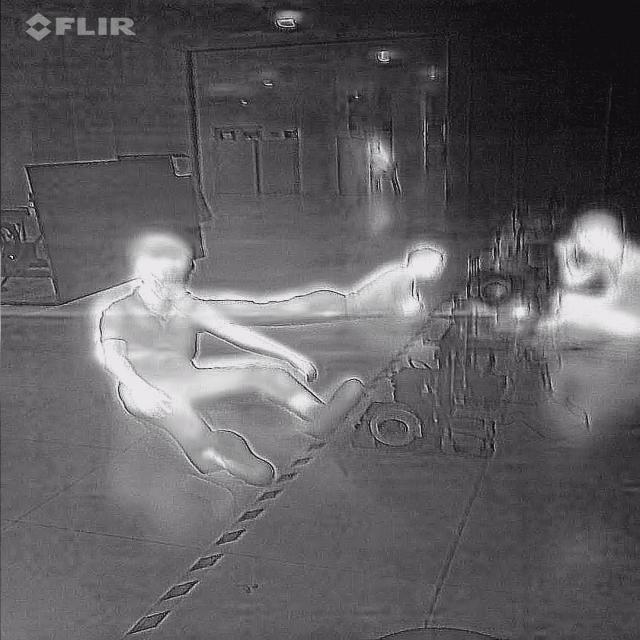Victim: (77, 234, 364, 486), (178, 241, 454, 332), (538, 204, 640, 346)
